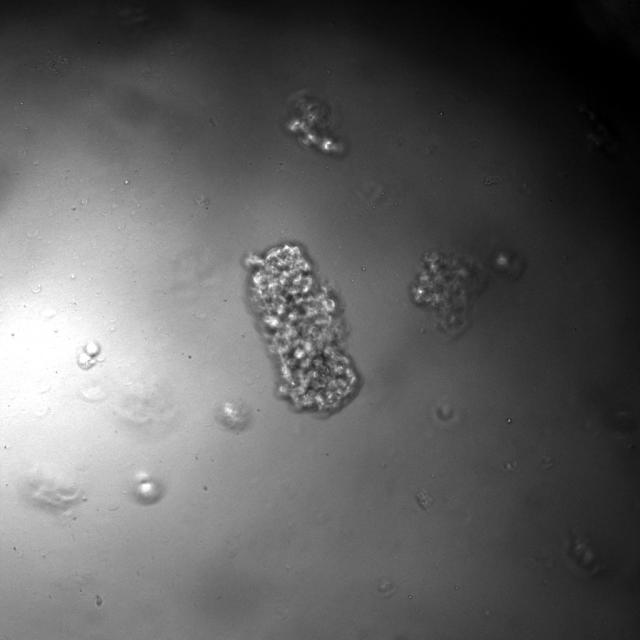organoid: (246, 244, 359, 414), (410, 250, 486, 338), (285, 92, 346, 156), (78, 341, 101, 369)
